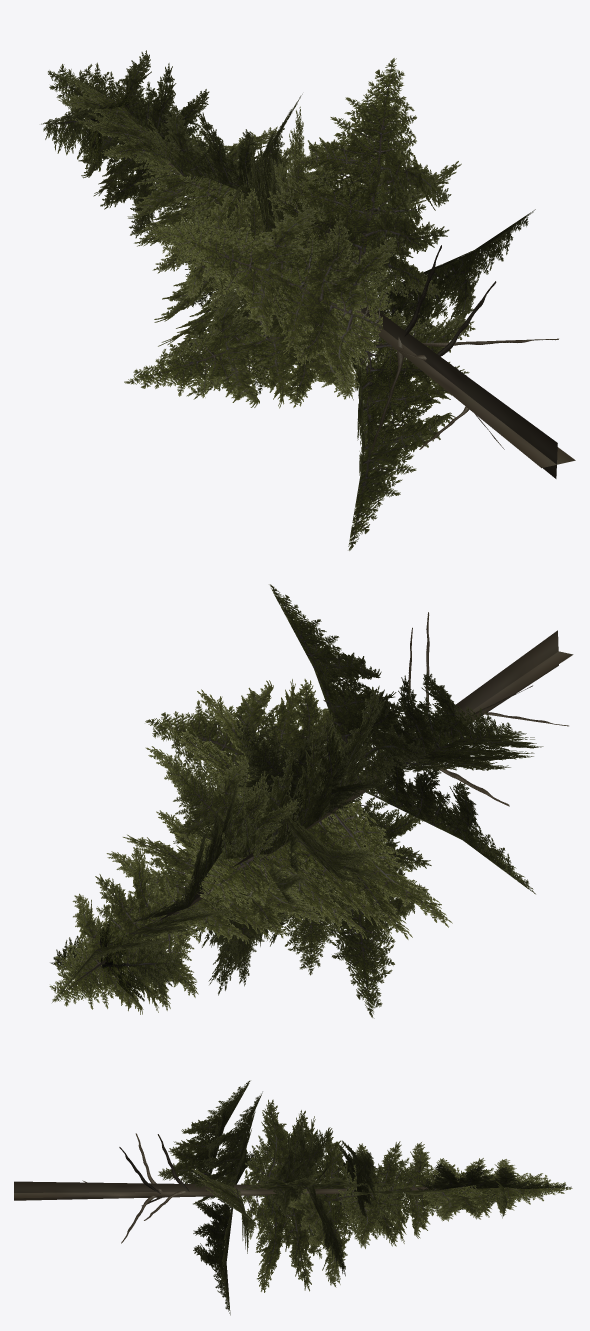
The model's file is MEP_Con_01_f_LOD_01.fbx.
3 views of the same model, one above another, from view 1: azimuth 30°, elevation 25°; view 2: azimuth 150°, elevation 25°; view 3: azimuth 270°, elevation 25° (orthographic). The views are drawn at different scales.
Visible parts, largest first — view 1: MEP_Con_01_f_LOD_01; view 2: MEP_Con_01_f_LOD_01; view 3: MEP_Con_01_f_LOD_01.
Part boxes in pixels (x1,y1,x2,y2): MEP_Con_01_f_LOD_01: [41, 50, 575, 550]; MEP_Con_01_f_LOD_01: [49, 584, 573, 1018]; MEP_Con_01_f_LOD_01: [14, 1080, 572, 1315].
Size of the model in its own units: 9.56 by 10.13 by 20.92.
